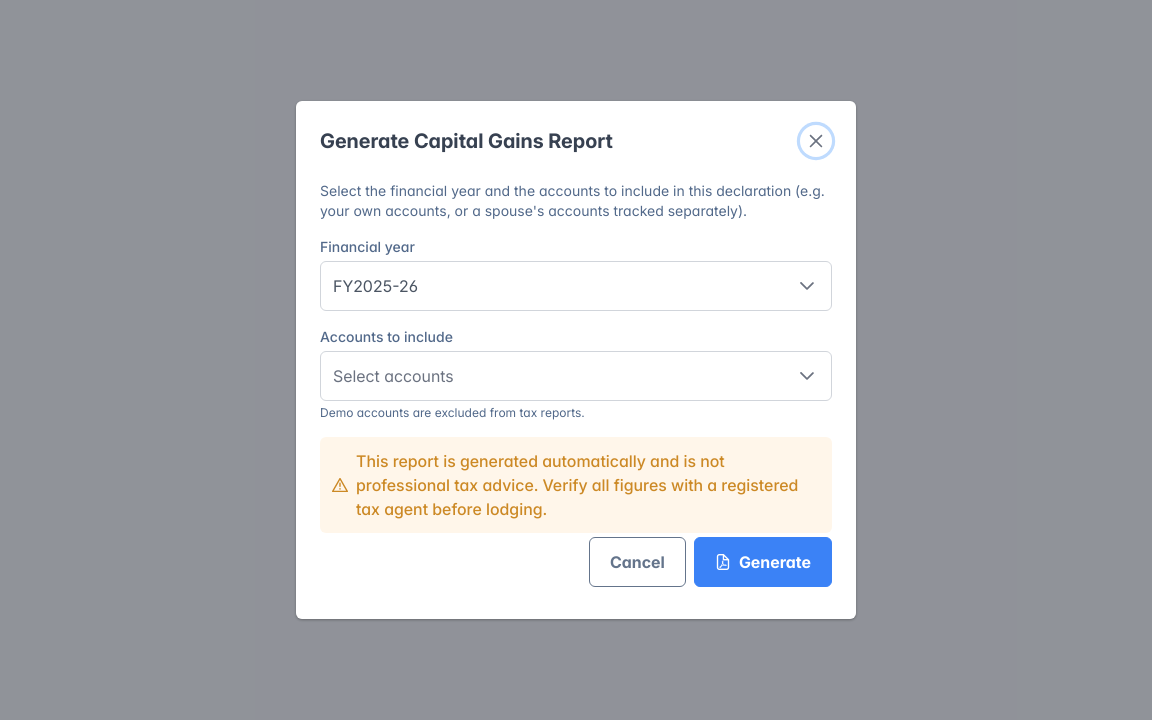
Scenario: GenerateReportDialog › lists only non-demo accounts and explains why demo ones are missing
What coordinates should you click on to do the following:
click the element showing "Select accounts"
I would click on:
 (576, 376)
Its box is [320,351,832,401].
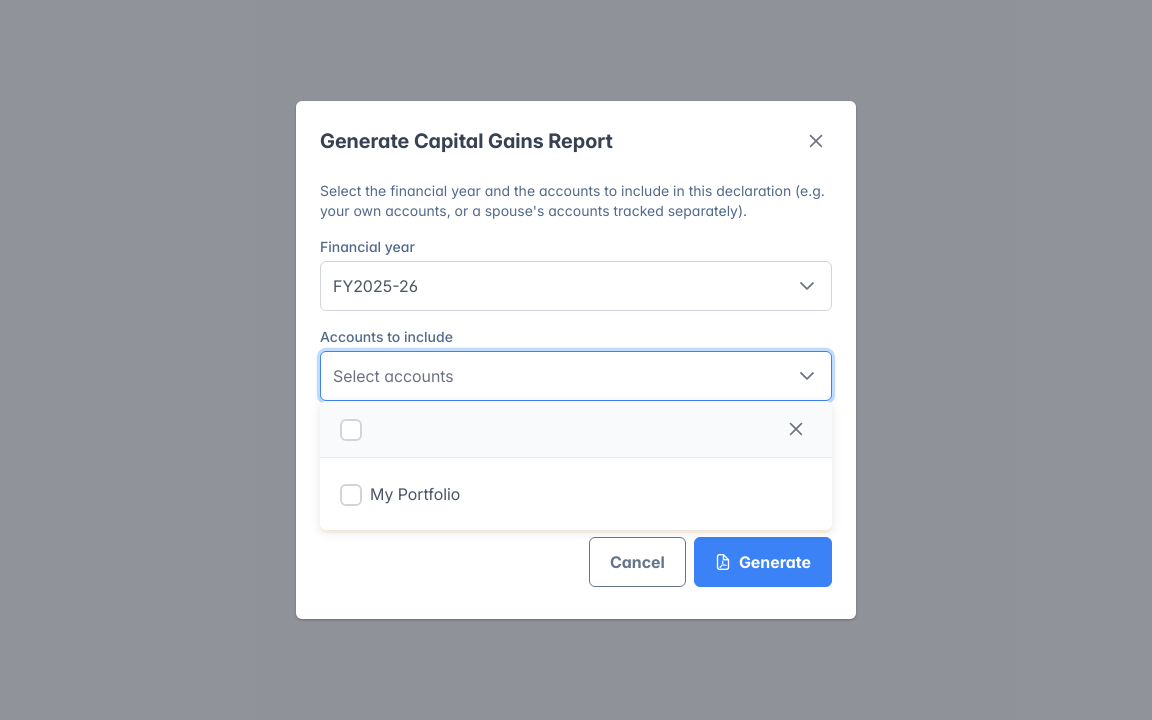
Expected: the text "Demo accounts are excluded from tax reports." is shown, [320,405,585,420]
Expected: the text "My Portfolio" is shown, [370,482,460,506]
